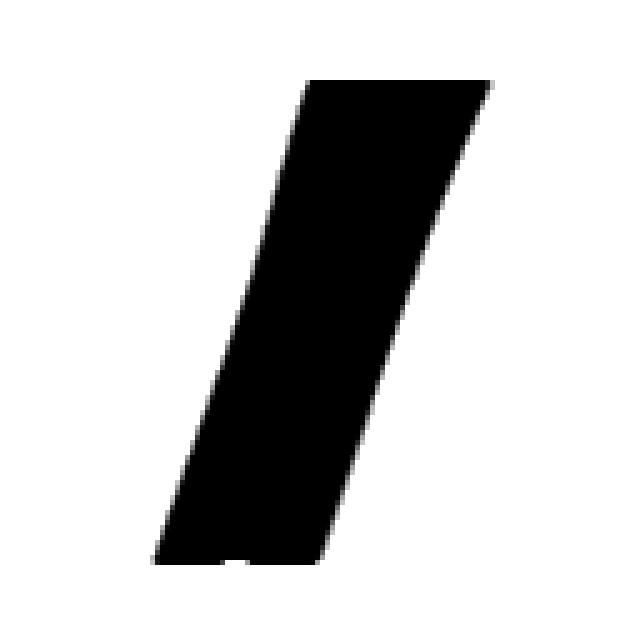L: (138, 75, 477, 565)
